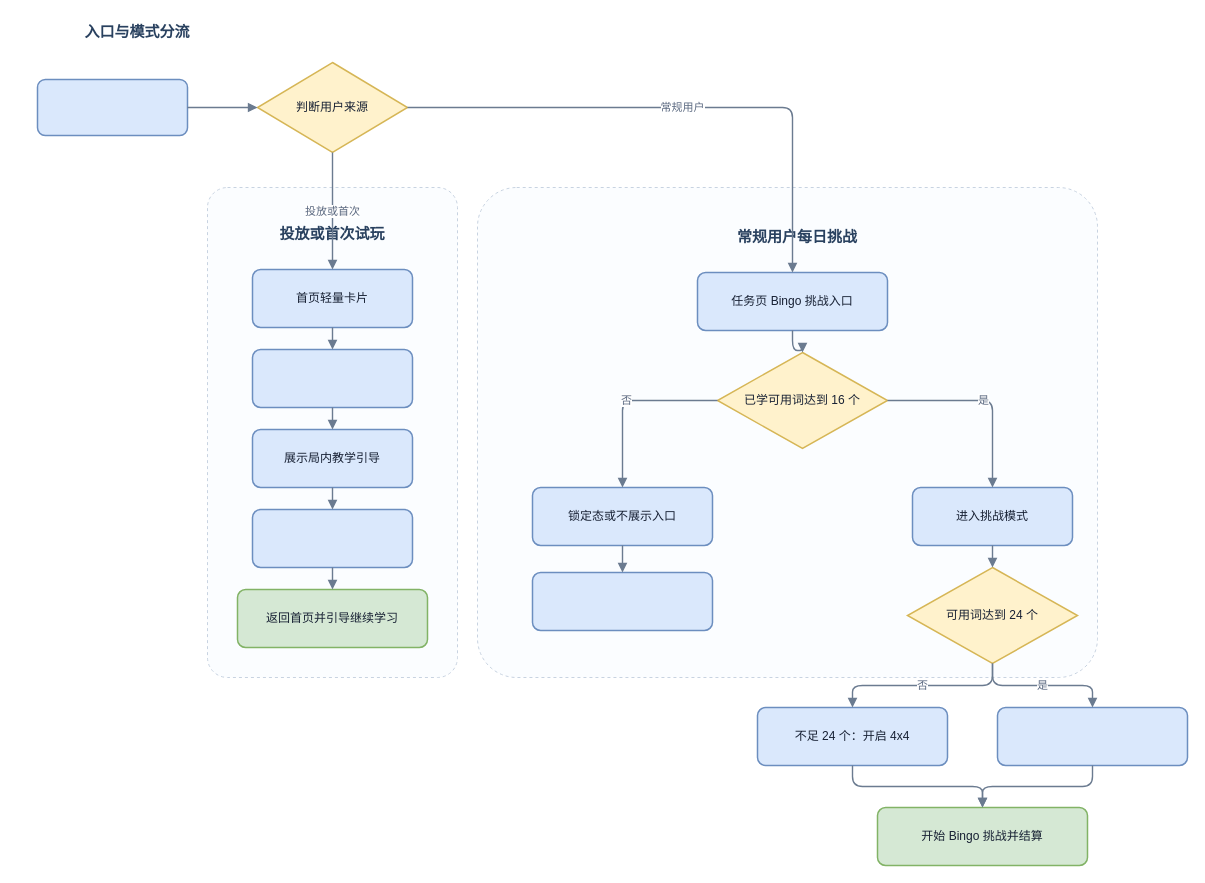
Some shapes in this 1205 by 883 pixel diagram are drawn without their labels. The centre of each missing label's shape, as x and y in pixels:
"完成试玩局" belongs at point (332, 538).
"提示继续学习" belongs at point (622, 601).
"用户进入 Pinu" belongs at point (112, 107).
"达到 24 个：开启 5x5" belongs at point (1092, 736).
"进入试玩模式" belongs at point (332, 378).
